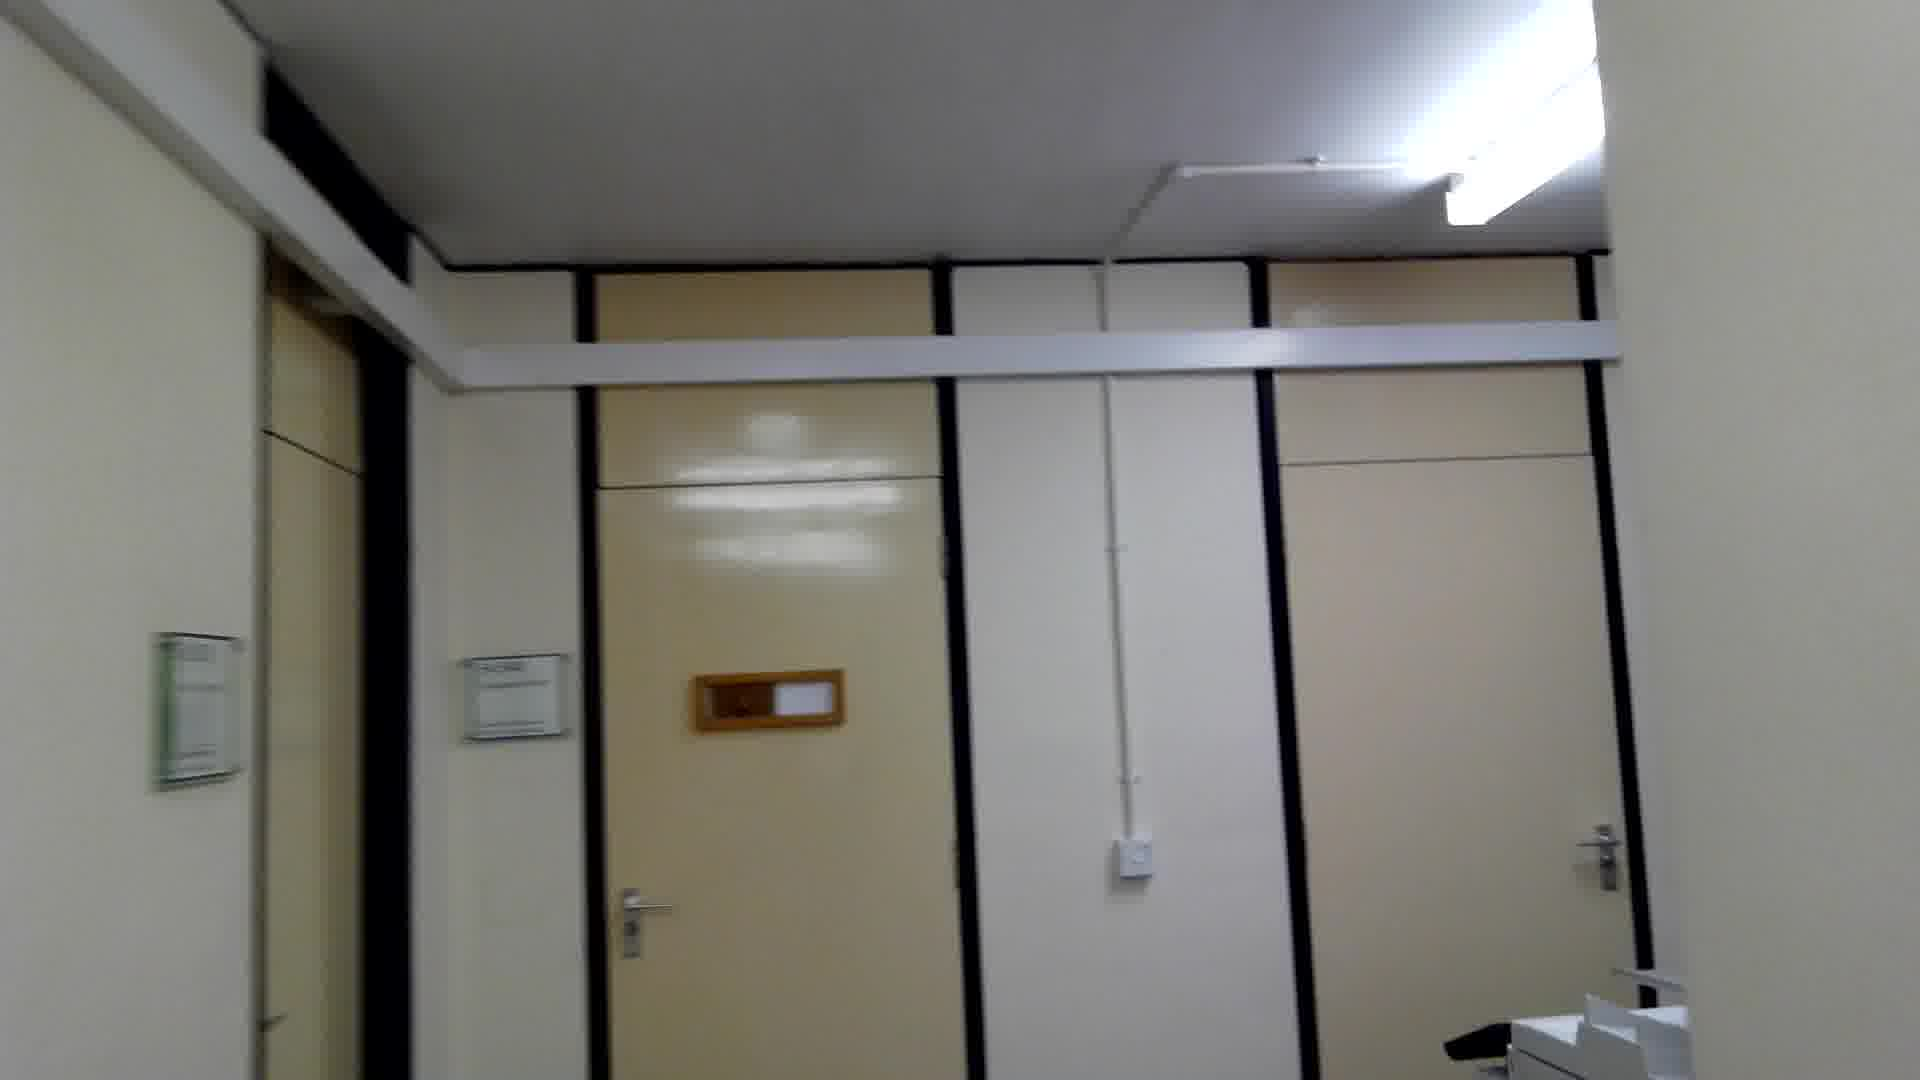Door: (568, 375, 1014, 1080), (1244, 334, 1656, 1002), (236, 316, 433, 1080)
